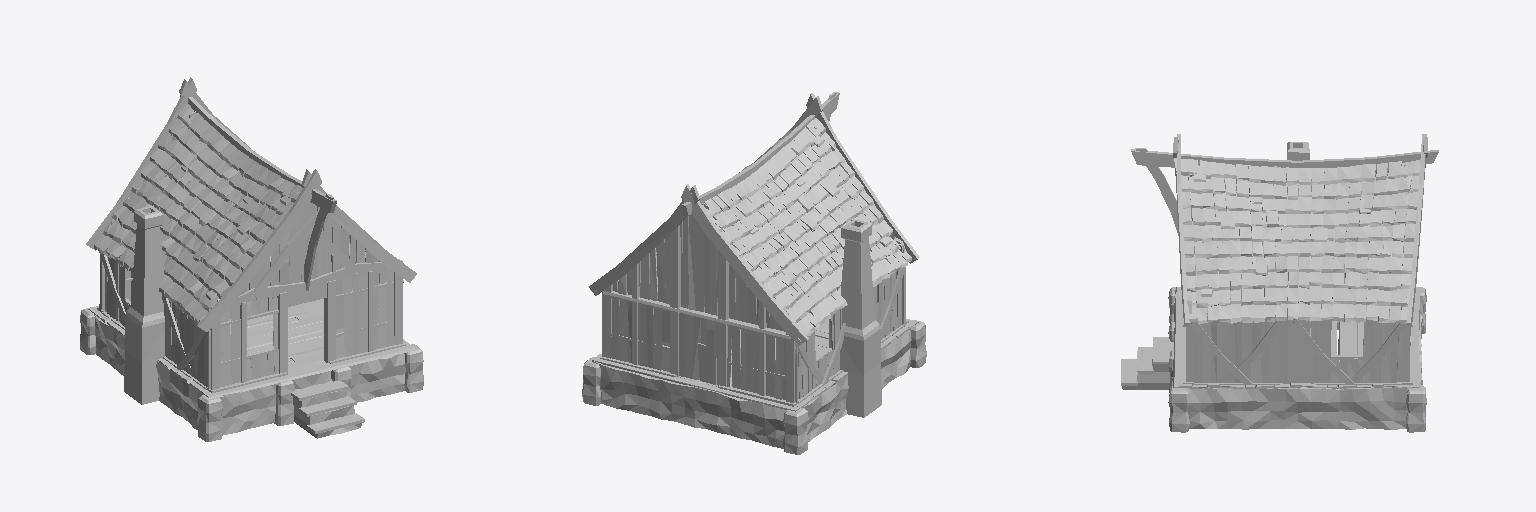
File: bakery.obj
3 views of the same model, side by side, from view 1: azimuth 30°, elevation 25°; view 2: azimuth 150°, elevation 25°; view 3: azimuth 270°, elevation 25° (orthographic).
Visible parts, largest first — view 1: roof_Cube.014_Cube.029, platform_Cube.011_Cube.028; view 2: roof_Cube.014_Cube.029, platform_Cube.011_Cube.028; view 3: roof_Cube.014_Cube.029, platform_Cube.011_Cube.028.
Part boxes in pixels (x1,y1,x2,y2): roof_Cube.014_Cube.029: (86, 77, 416, 433); platform_Cube.011_Cube.028: (80, 206, 423, 441); roof_Cube.014_Cube.029: (589, 92, 919, 411); platform_Cube.011_Cube.028: (582, 219, 926, 454); roof_Cube.014_Cube.029: (1121, 134, 1438, 388); platform_Cube.011_Cube.028: (1122, 142, 1426, 432).
Bounding box in the file's own units: 11.6 × 11.94 × 14.